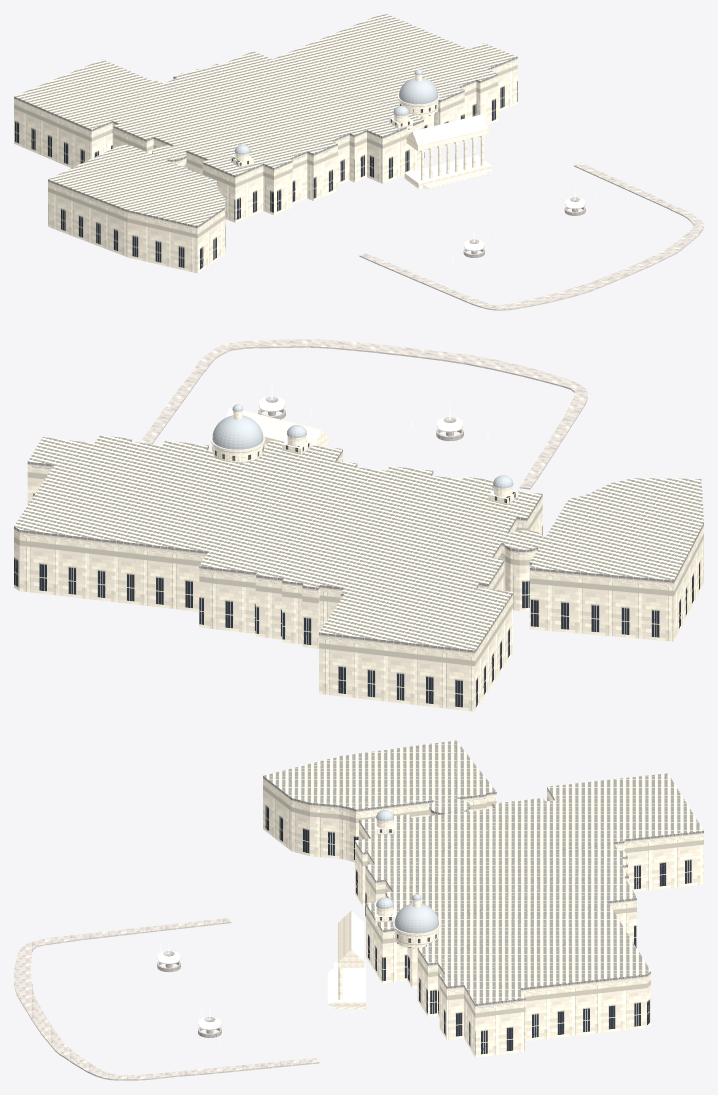
The model's file is trafalgar.glb.
3 renders of one model, top to bottom at view 1: azimuth 30°, elevation 25°; view 2: azimuth 150°, elevation 25°; view 3: azimuth 270°, elevation 25°, orthographic. The views are drawn at different scales.
Parts seen in each view (by area): view 1: Balustrade, Gallery, Cornice, Paving, Roof; view 2: Balustrade, Gallery, Paving, Cornice, Roof, Jet, Rim; view 3: Balustrade, Gallery, Cornice, Paving, Roof, Jet.
Part boxes in pixels (bbox=[...]): Balustrade: bbox=[14, 14, 517, 228]; Gallery: bbox=[14, 62, 517, 273]; Cornice: bbox=[14, 59, 517, 231]; Paving: bbox=[359, 162, 703, 310]; Roof: bbox=[16, 61, 514, 227]; Balustrade: bbox=[14, 435, 703, 653]; Gallery: bbox=[14, 439, 703, 711]; Paving: bbox=[140, 339, 587, 489]; Cornice: bbox=[14, 407, 703, 656]; Roof: bbox=[16, 404, 687, 655]; Jet: bbox=[234, 384, 488, 437]; Rim: bbox=[258, 397, 463, 441]; Balustrade: bbox=[263, 740, 703, 1007]; Gallery: bbox=[263, 782, 703, 1057]; Cornice: bbox=[263, 779, 703, 1009]; Paving: bbox=[14, 918, 319, 1080]; Roof: bbox=[263, 779, 695, 1008]; Jet: bbox=[157, 940, 221, 1044].
Size of the model in its own units: 206 by 35.78 by 217.
Materials: 7 (5 with a texture image).
